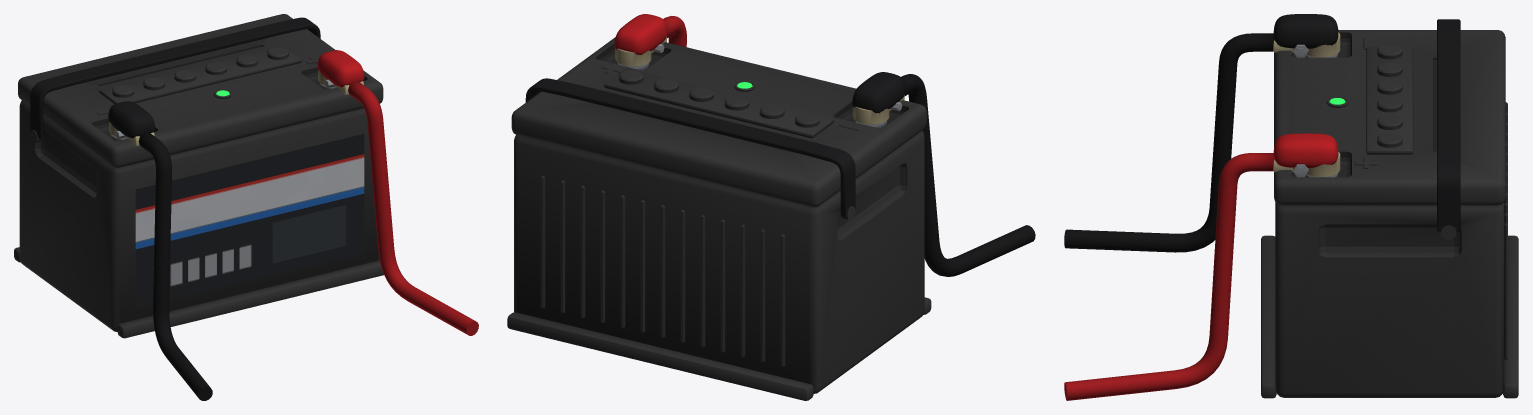
File: battery-hi-v1.glb
The picture shows the model from 3 angles, left to right: view 1: azimuth 30°, elevation 25°; view 2: azimuth 150°, elevation 25°; view 3: azimuth 270°, elevation 25°; orthographic projection. The views are drawn at different scales.
Parts seen in each view (by area): view 1: case, lid, clamp_pos, clamp_neg, handle_mesh; view 2: case, lid, clamp_neg, handle_mesh, clamp_pos; view 3: case, lid, clamp_pos, clamp_neg, handle_mesh.
Boxes of the visible parts, x1,y1,x2,y2 form: case: [14, 100, 383, 338]; lid: [18, 14, 383, 167]; clamp_pos: [317, 50, 478, 335]; clamp_neg: [108, 101, 212, 400]; handle_mesh: [30, 17, 320, 142]; case: [507, 130, 931, 400]; lid: [511, 37, 926, 207]; clamp_neg: [852, 72, 1035, 276]; handle_mesh: [525, 78, 855, 220]; clamp_pos: [614, 14, 686, 66]; case: [1261, 102, 1518, 398]; lid: [1274, 30, 1505, 205]; clamp_pos: [1064, 133, 1340, 400]; clamp_neg: [1064, 14, 1340, 252]; handle_mesh: [1437, 19, 1460, 239].
Bounding box in the file's own units: 0.292 × 0.208 × 0.3473.
Materials: 11 (3 with a texture image).
